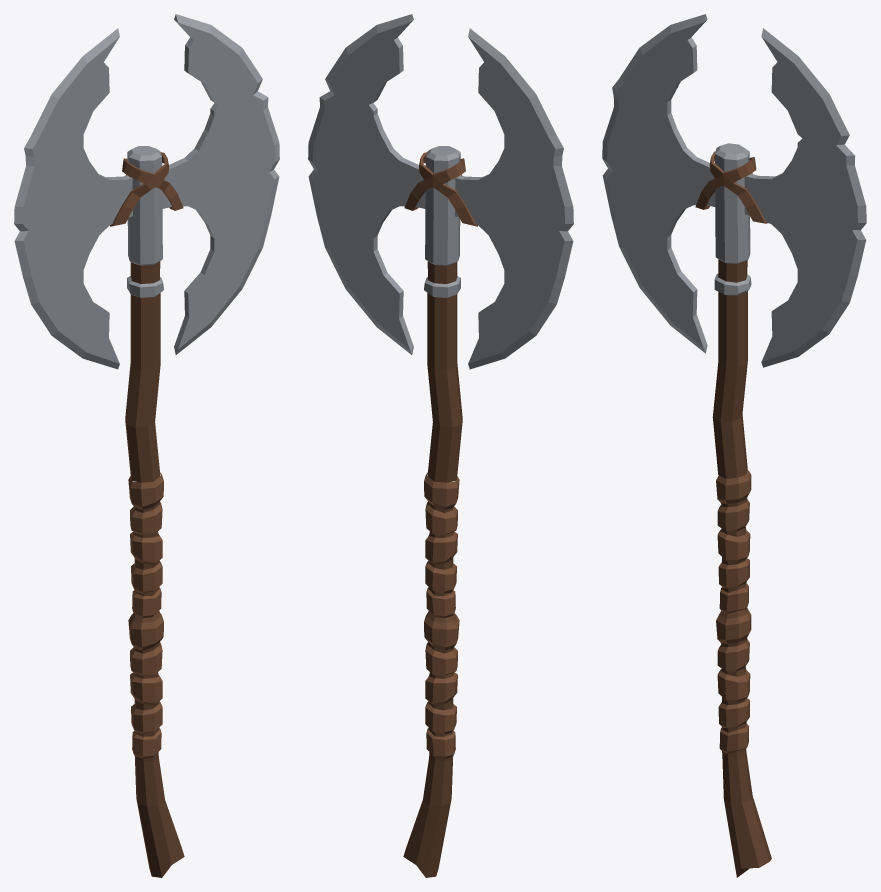
Rendered from Axe_Double.gltf.
3 views of the same model, side by side, from view 1: azimuth 30°, elevation 25°; view 2: azimuth 150°, elevation 25°; view 3: azimuth 330°, elevation 25° (orthographic).
Visible parts, largest first — view 1: Axe_Double; view 2: Axe_Double; view 3: Axe_Double.
Part boxes in pixels (x1,y1,x2,y2): Axe_Double: [14, 14, 279, 877]; Axe_Double: [308, 14, 573, 877]; Axe_Double: [602, 14, 866, 877].
Bounding box in the file's own units: 2.06 × 6.35 × 0.2609.
